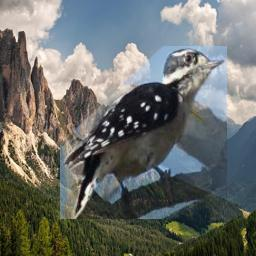Cuckoo: (141, 84, 205, 122)
Woodpecker: (60, 46, 227, 219)
